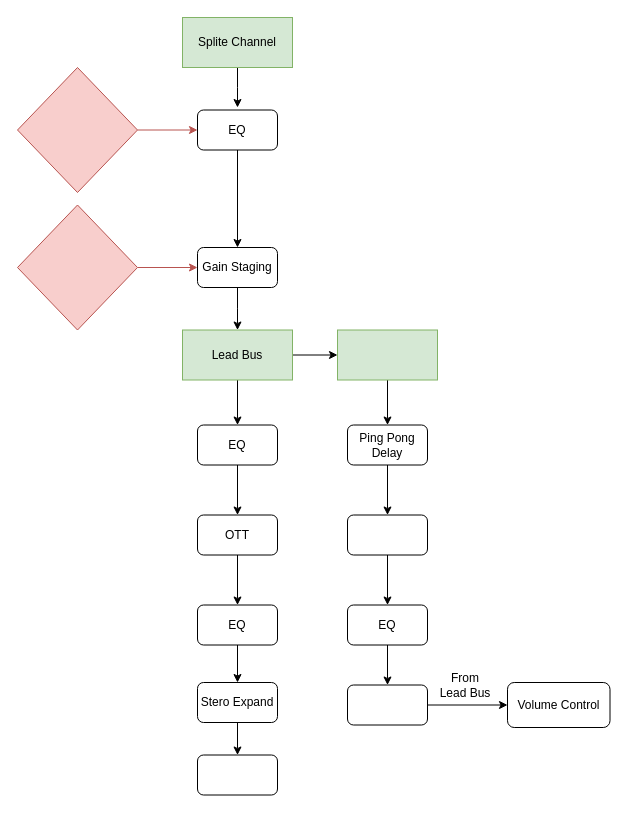
This 628x813 diagram has some shape labels left out. The shapes that lost their labels are listed below. From the top down, each one's box as (x1, y1, x2, y2) in pixels, then its label:
(16, 66, 138, 192): Dont Cut Too Much On Main Lead
(16, 204, 138, 330): Staring With Main Lead
(336, 329, 438, 380): Reverb Send Channel
(346, 514, 428, 555): Reverb
(346, 684, 428, 725): Limiter
(196, 754, 278, 795): SideChain
